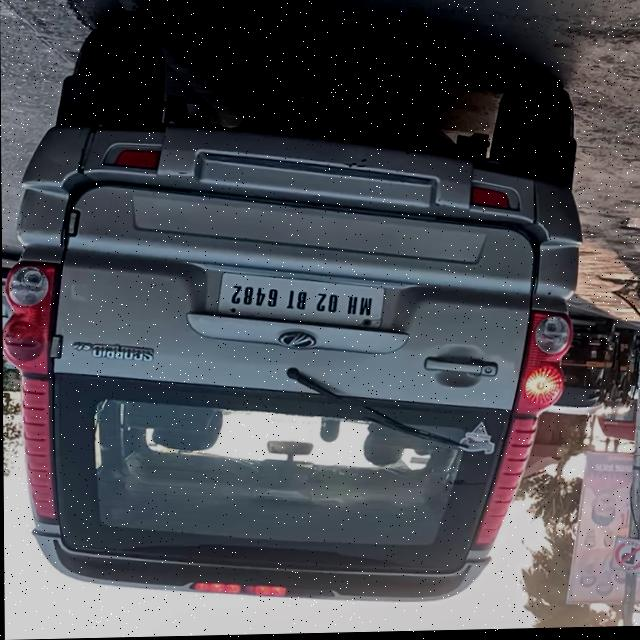plate: (218, 263, 383, 330)
